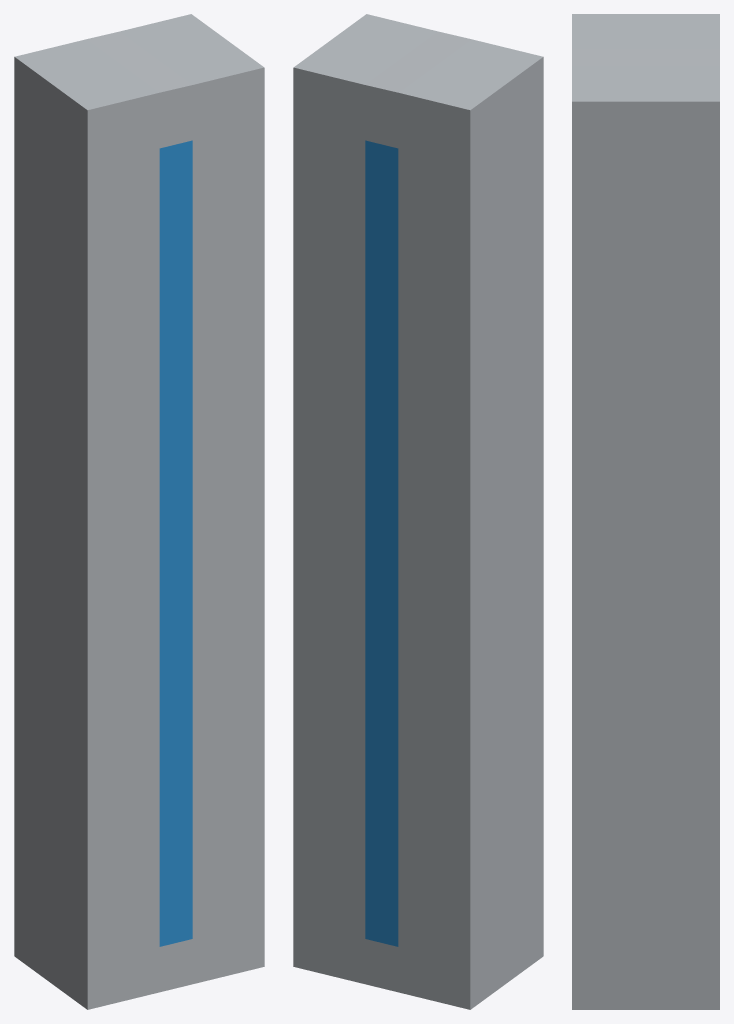
Rendered from window_tower.glb.
The picture shows the model from 3 angles, left to right: view 1: azimuth 30°, elevation 25°; view 2: azimuth 150°, elevation 25°; view 3: azimuth 270°, elevation 25°; orthographic projection.
Visible parts, largest first — view 1: window_tower; view 2: window_tower; view 3: window_tower.
Boxes of the visible parts, left/top/right/bottom form: window_tower: left=14, top=14, right=264, bottom=1009; window_tower: left=293, top=14, right=543, bottom=1009; window_tower: left=572, top=14, right=719, bottom=1009.
Bounding box in the file's own units: 0.0889 × 0.4318 × 0.0636.
Materials: 2 (1 with a texture image).
